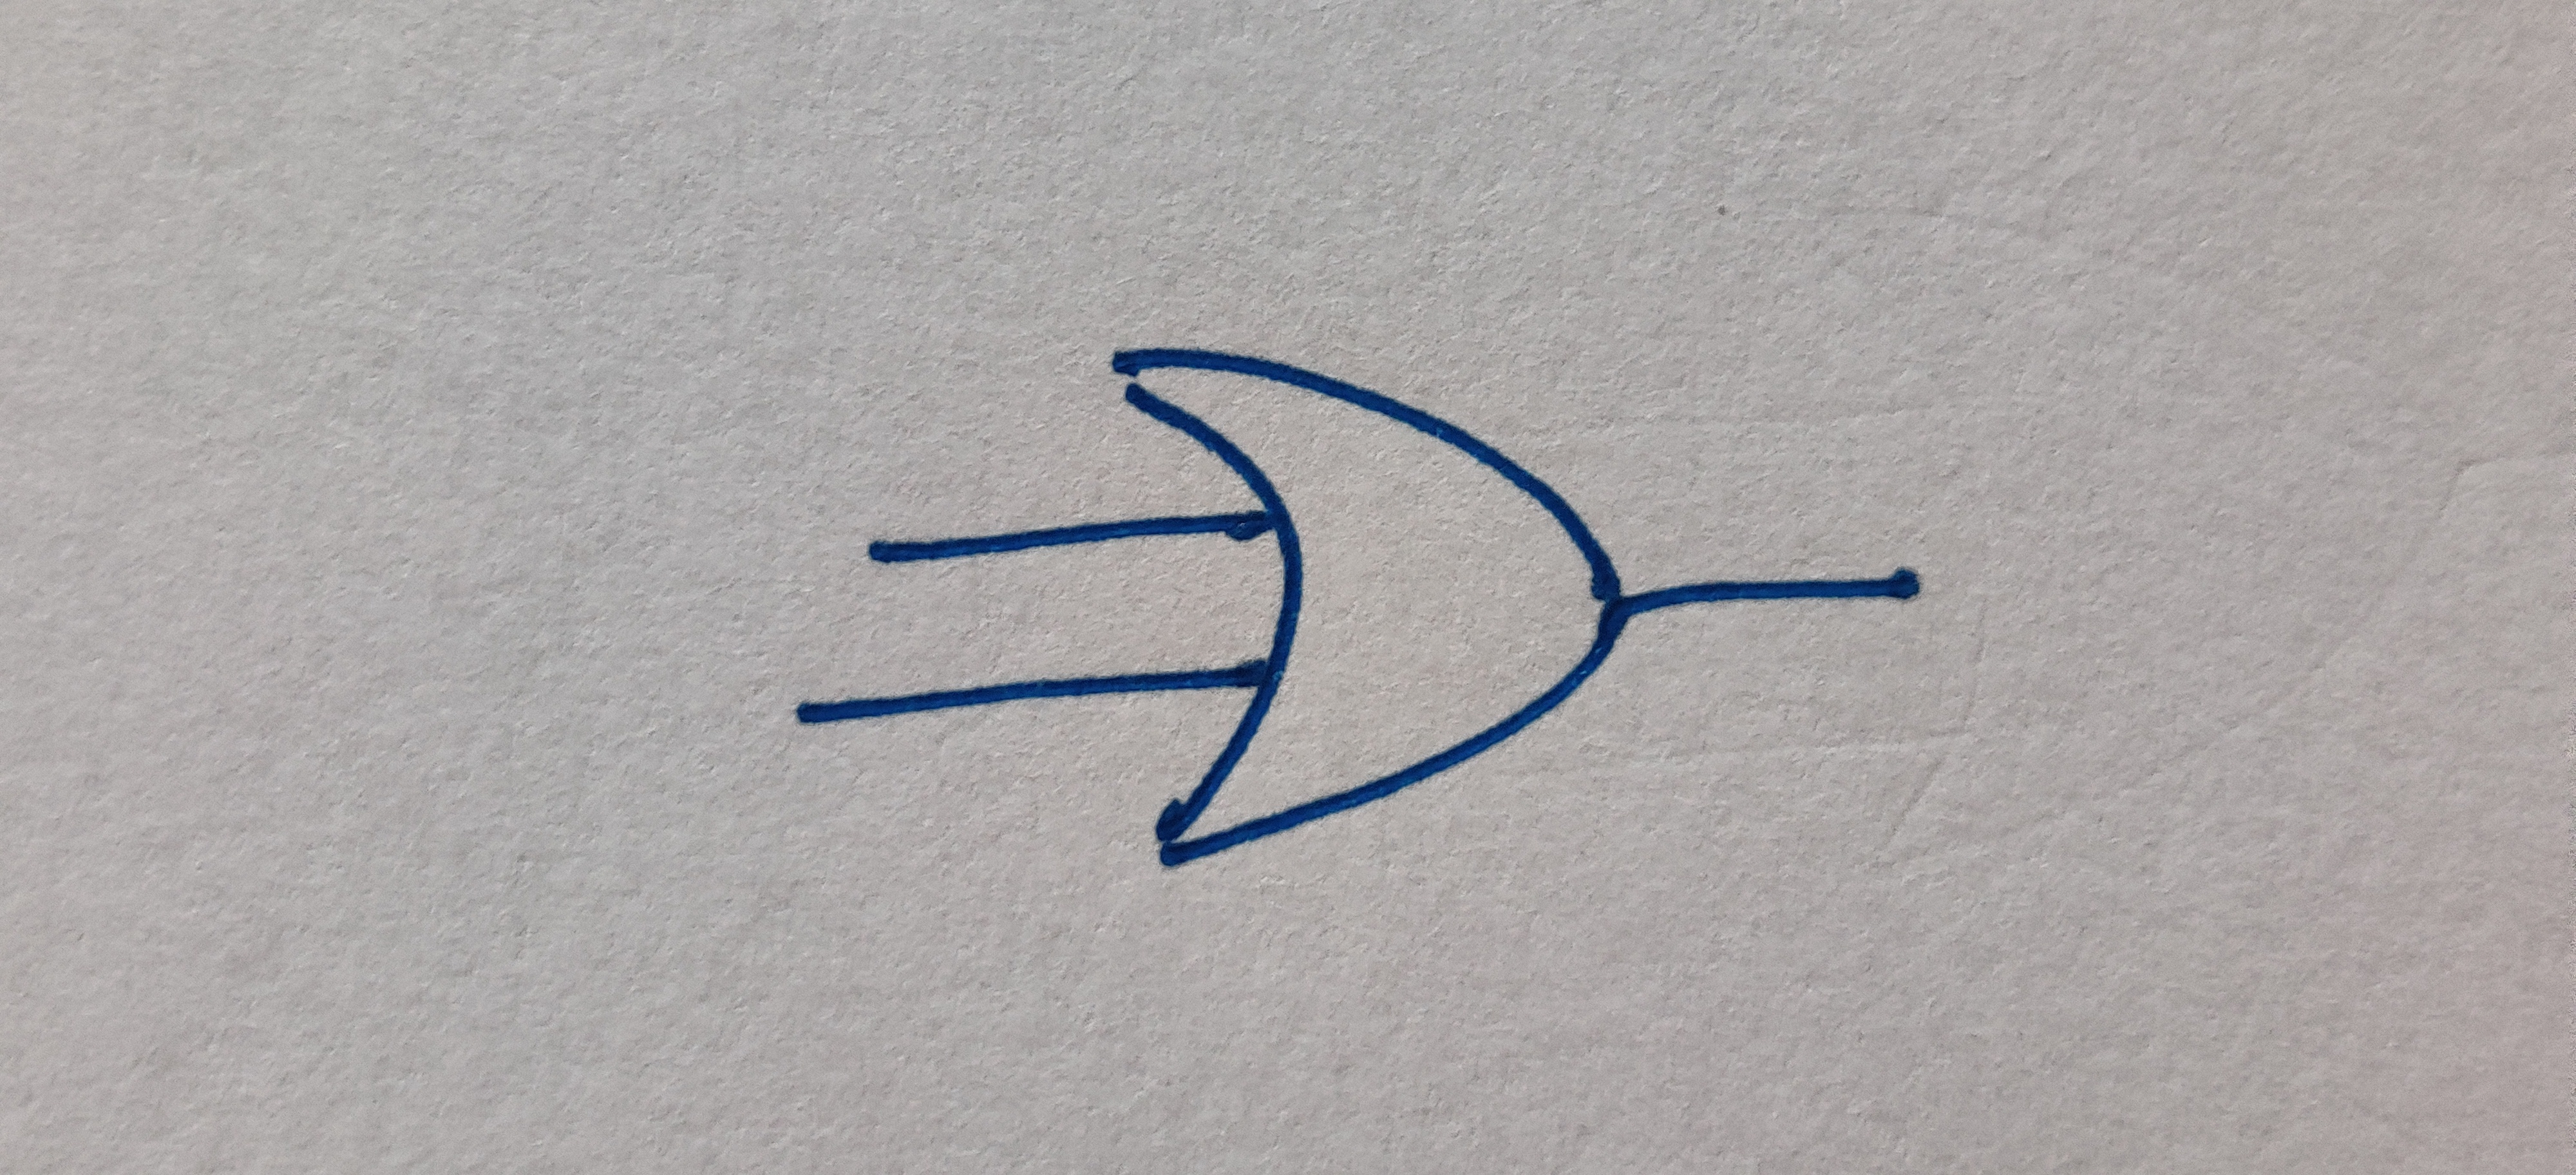or: (1119, 350, 1625, 859)
